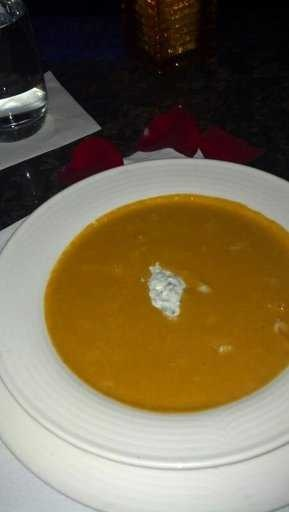soup: (32, 178, 282, 454)
